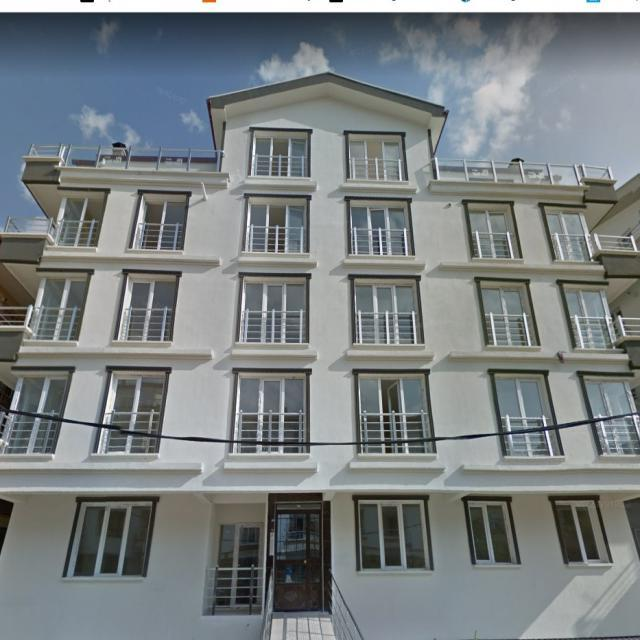Building: (0, 70, 640, 640)
